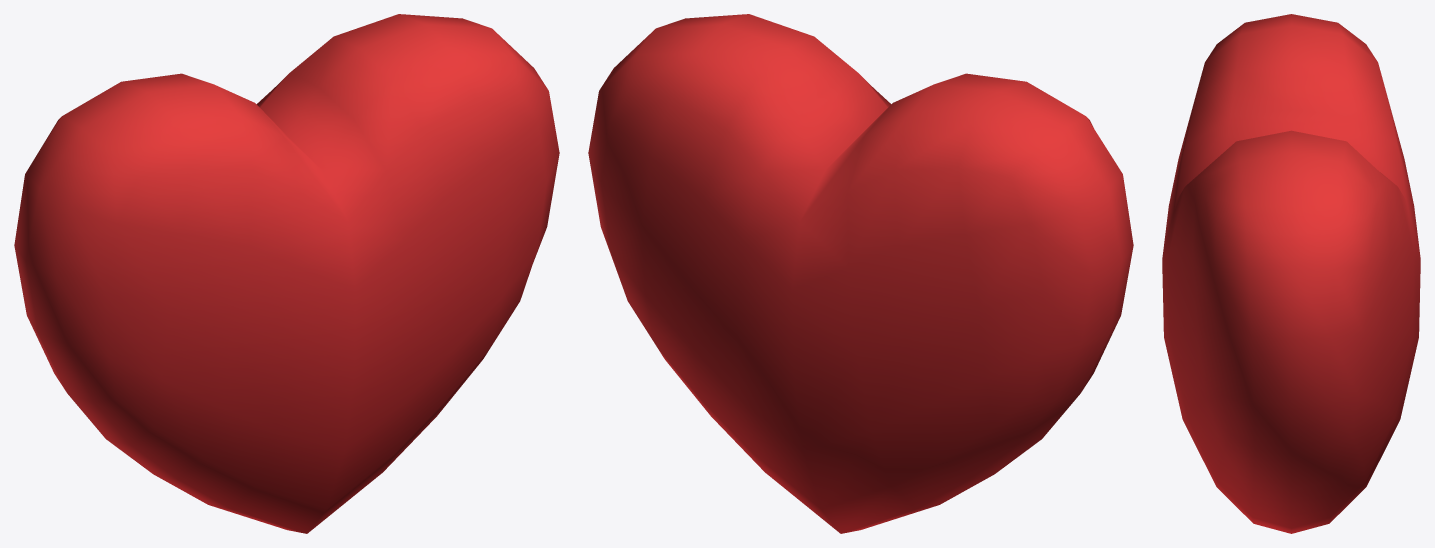
Rendered from heart_001.fbx.
3 views of the same model, side by side, from view 1: azimuth 30°, elevation 25°; view 2: azimuth 150°, elevation 25°; view 3: azimuth 270°, elevation 25° (orthographic). The views are drawn at different scales.
Parts seen in each view (by area): view 1: heart_001; view 2: heart_001; view 3: heart_001.
Part boxes in pixels (box(x1,y1,x2,y2)): heart_001: box(14, 14, 559, 533); heart_001: box(588, 14, 1133, 533); heart_001: box(1162, 14, 1420, 533).
Size of the model in its own units: 107 by 48.86 by 92.68.
